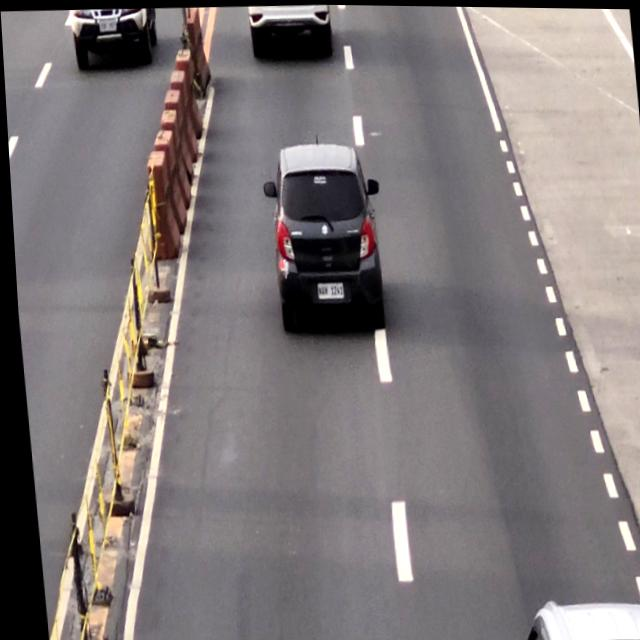Car: (261, 145, 382, 334)
License-Plate: (312, 277, 343, 303)
